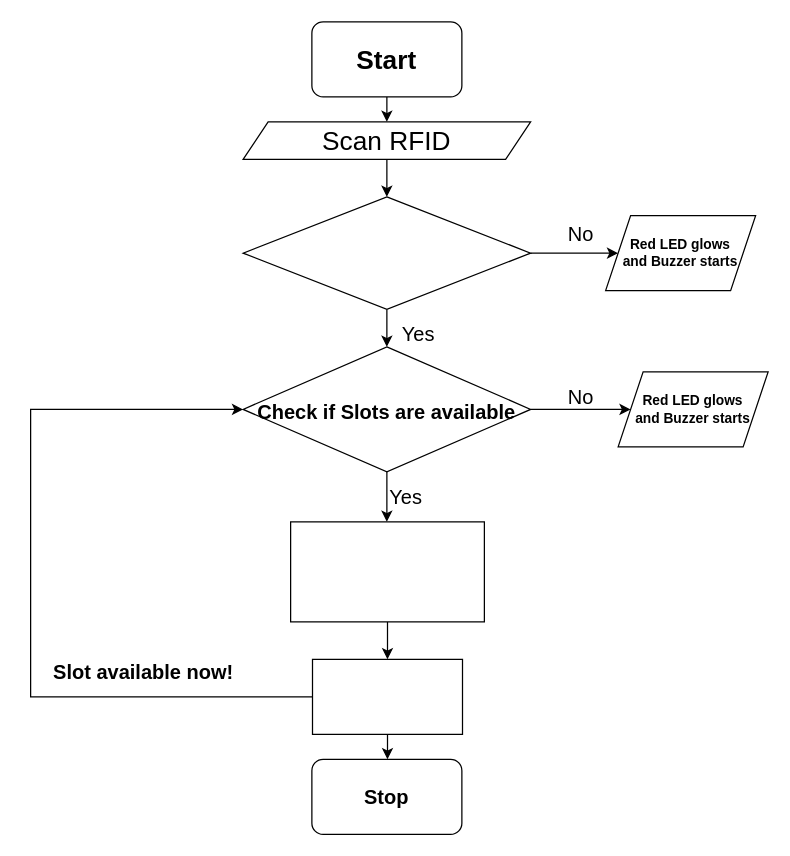
This 790x856 diagram has some shape labels left out. Each missing label, with the box of its shape:
Car exits and slot becomes available: (311, 658, 462, 734)
Check if RFID is authorised: (242, 196, 531, 309)
Park the car in the available slot where Blue led is glowing: (289, 521, 484, 622)
